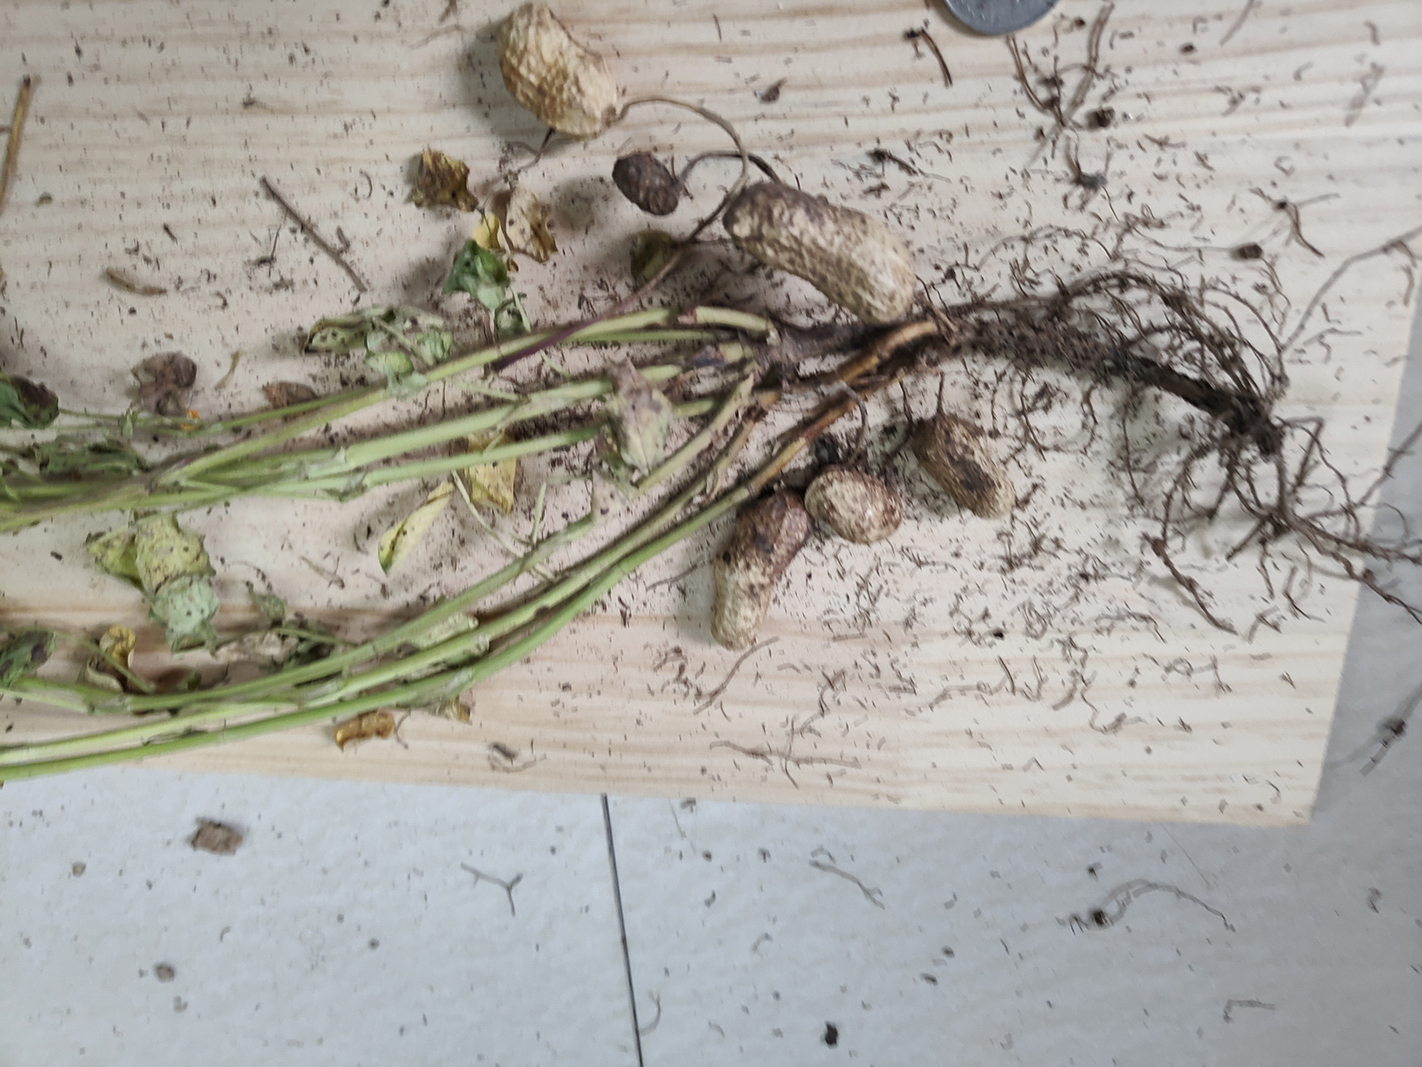h: (723, 182, 916, 322), (709, 490, 811, 651), (498, 1, 619, 136), (803, 468, 903, 544)
l: (916, 415, 1016, 520), (612, 152, 680, 215)
